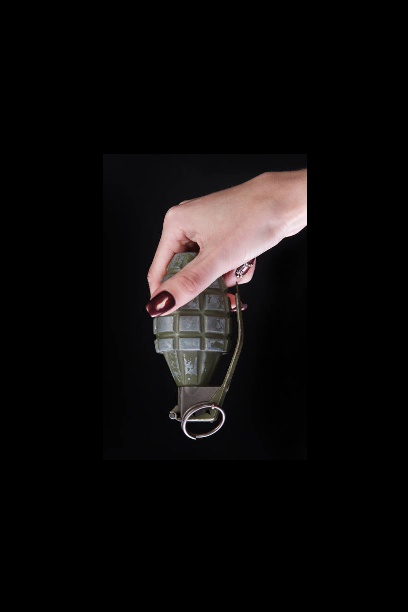e1: (148, 243, 247, 449)
